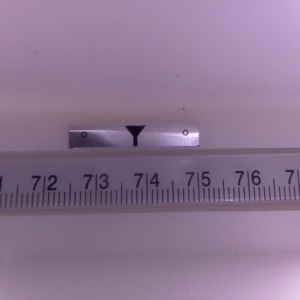2: (46, 175, 57, 191)
3: (98, 173, 108, 189)
4: (149, 172, 159, 188)
5: (200, 171, 210, 187)
6: (251, 170, 261, 186)
7: (30, 175, 41, 191), (133, 172, 143, 189), (82, 174, 92, 190), (184, 171, 194, 187), (284, 169, 294, 185), (234, 171, 244, 186)
finger: (123, 125, 146, 148)
